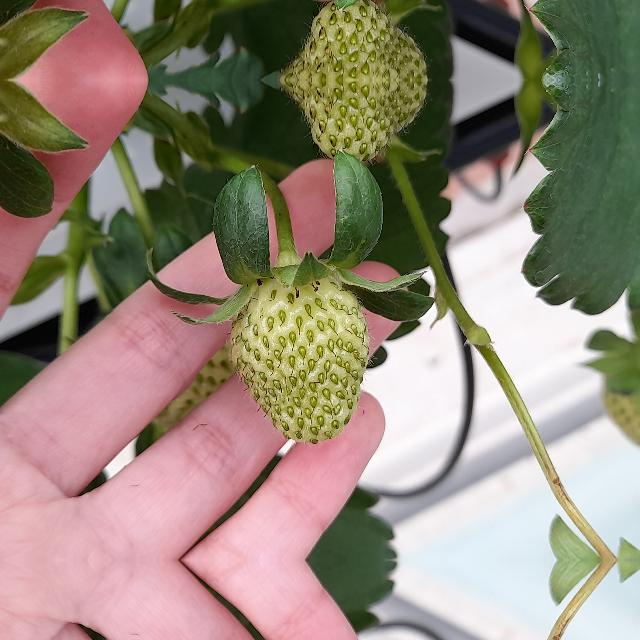Health_25: (230, 276, 370, 444)
